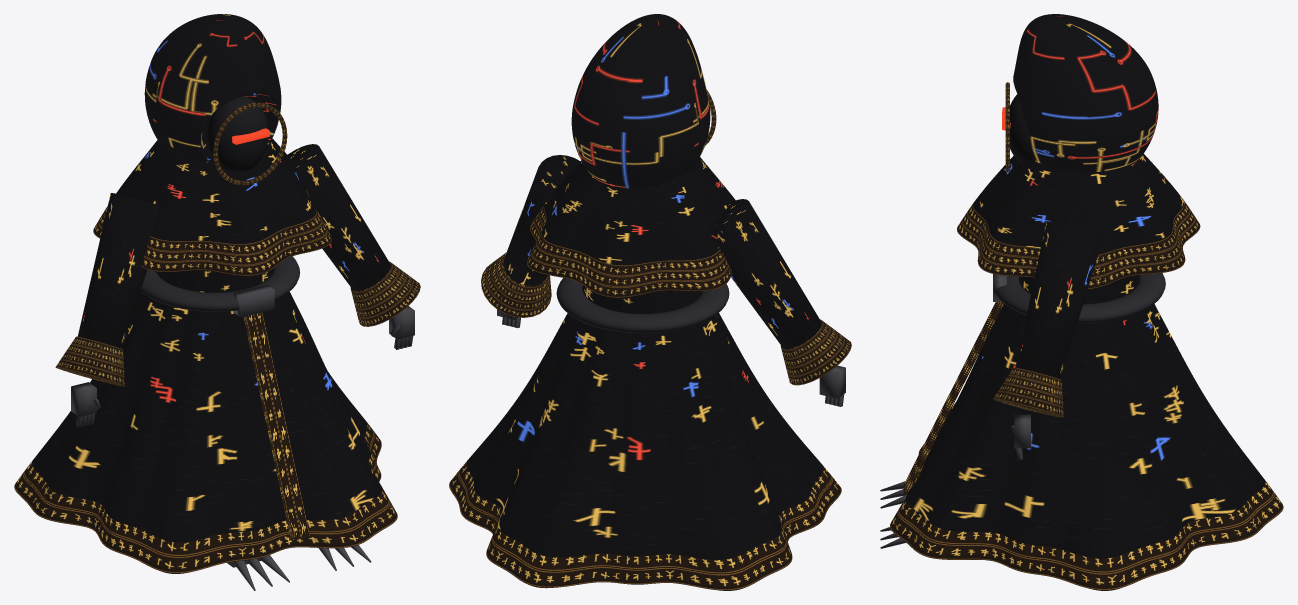
Rendered from rune-monk.glb.
3 views of the same model, side by side, from view 1: azimuth 30°, elevation 25°; view 2: azimuth 150°, elevation 25°; view 3: azimuth 270°, elevation 25° (orthographic).
Parts seen in each view (by area): view 1: RobeSkirt, Mantle, Hood, SleeveR, SleeveL, FrontStrip, Sash, Mask, CuffL, CuffR, Torso, HoodRim (+3 smaller); view 2: RobeSkirt, Mantle, Hood, SleeveR, Sash, SleeveL, CuffR, CuffL, Torso, PalmR; view 3: RobeSkirt, Mantle, Hood, SleeveL, Sash, CuffL, FrontStrip, Torso, Mask, PalmL.
Part boxes in pixels (x1,y1,x2,y2): RobeSkirt: (14, 292, 397, 573); Mantle: (93, 136, 331, 275); Hood: (144, 14, 281, 162); SleeveR: (77, 193, 160, 348); SleeveL: (287, 144, 390, 291); FrontStrip: (243, 312, 309, 540); Sash: (140, 256, 299, 311); Mask: (207, 96, 268, 171); CuffL: (350, 261, 420, 326); CuffR: (55, 336, 124, 386); Torso: (156, 268, 274, 292); HoodRim: (213, 102, 287, 185); RobeSkirt: (449, 313, 841, 590); Mantle: (527, 157, 735, 297); Hood: (571, 14, 710, 188); SleeveR: (710, 199, 821, 348); Sash: (556, 278, 729, 333); SleeveL: (503, 155, 580, 285); CuffR: (780, 319, 851, 385); CuffL: (481, 252, 551, 317); Torso: (582, 285, 702, 313); PalmR: (819, 365, 845, 398); RobeSkirt: (890, 304, 1283, 590); Mantle: (957, 153, 1200, 289); Hood: (1013, 14, 1158, 171); SleeveL: (1015, 221, 1103, 378); Sash: (995, 273, 1165, 323); CuffL: (993, 367, 1063, 417); FrontStrip: (903, 302, 1003, 494); Torso: (1018, 275, 1139, 304); Mask: (1010, 94, 1034, 162); PalmL: (1014, 414, 1030, 448).
Bounding box in the file's own units: 2.1 × 2.79 × 2.03.
8 materials, 4 textured.
